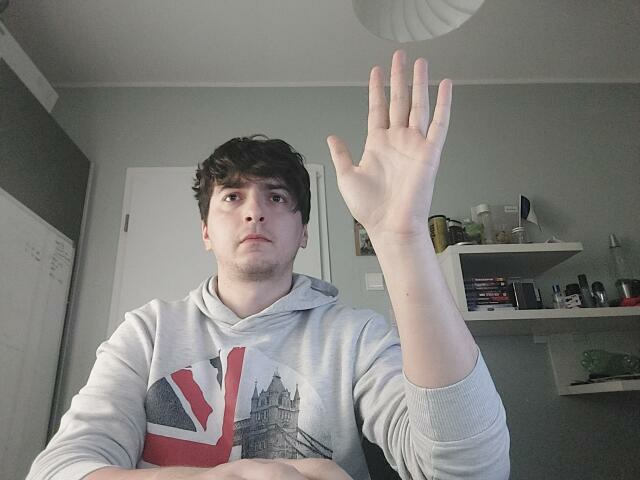hello: (325, 47, 454, 229)
